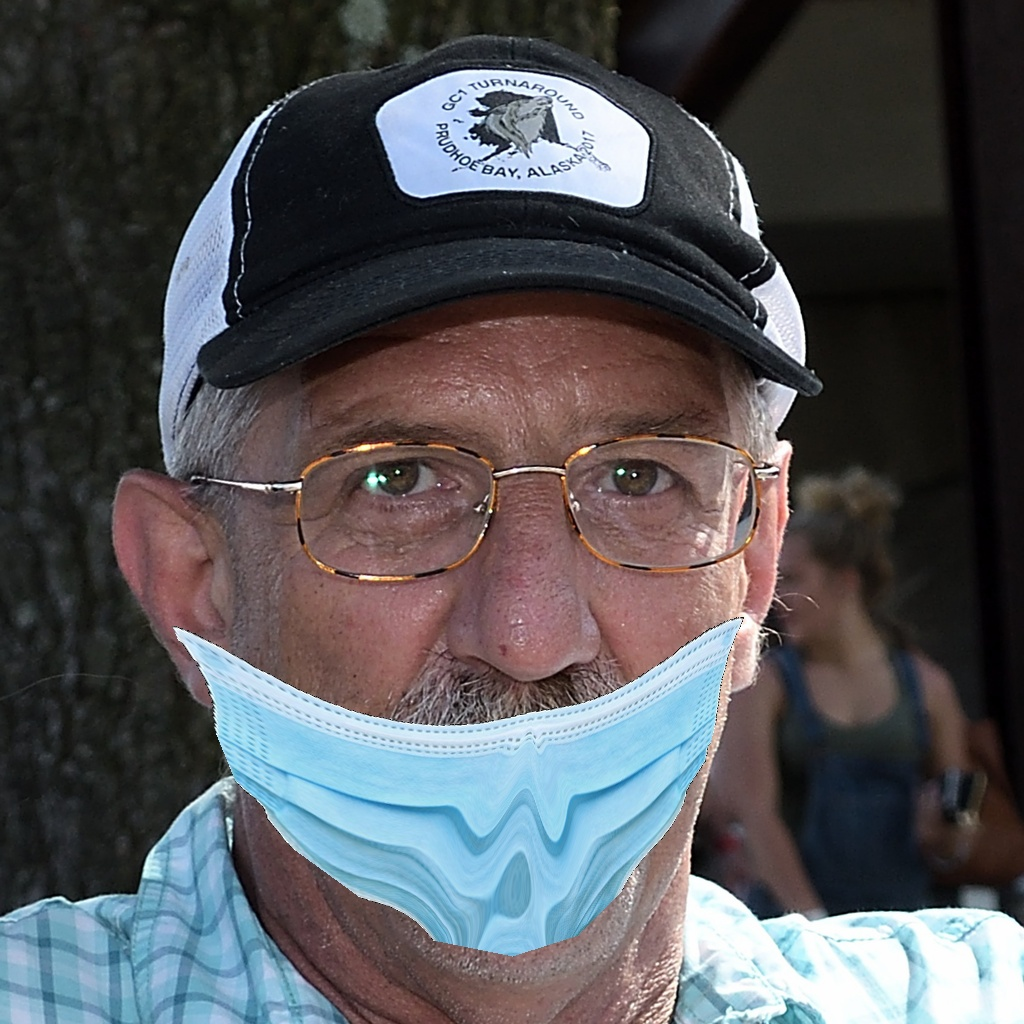Mask_Mouth_Chin: (226, 380, 736, 958)
